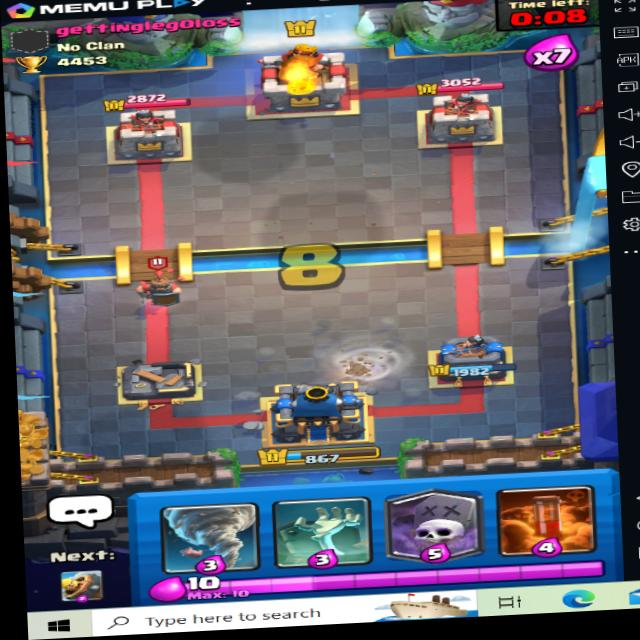fireball: (276, 65, 322, 106)
royal-recruits: (122, 247, 193, 308)
tornado: (290, 323, 441, 397)
